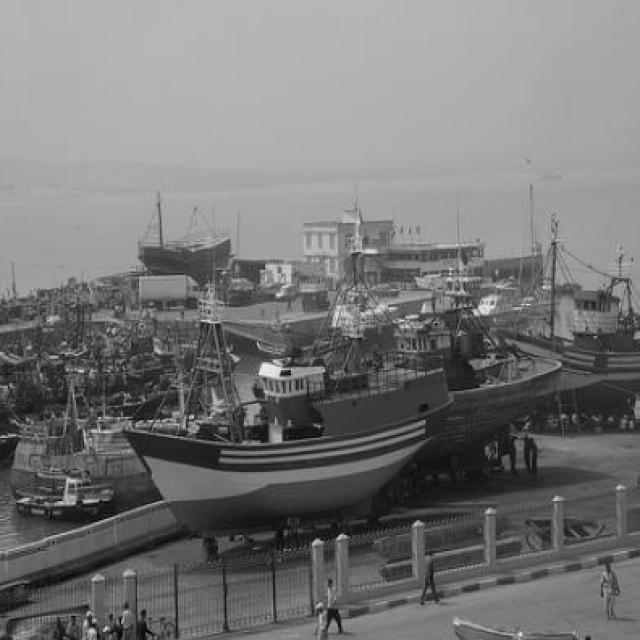ship: (118, 302, 451, 535), (406, 295, 560, 461), (493, 251, 640, 414)
